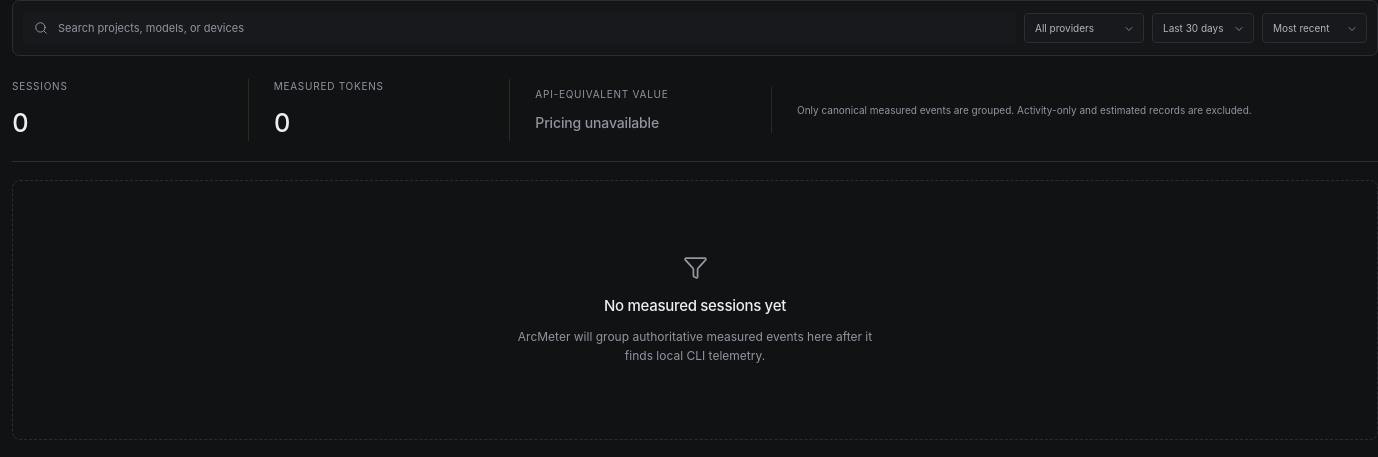
Test case: important product states › distinguishes a first-use session empty state from filtered empty results
Check: the heading "No measured sessions yet" is shown, box [604,295,786,317]
Type "ArcMeter" into the field labelled "Search projects" at (530, 28), box [56,12,1005,44]
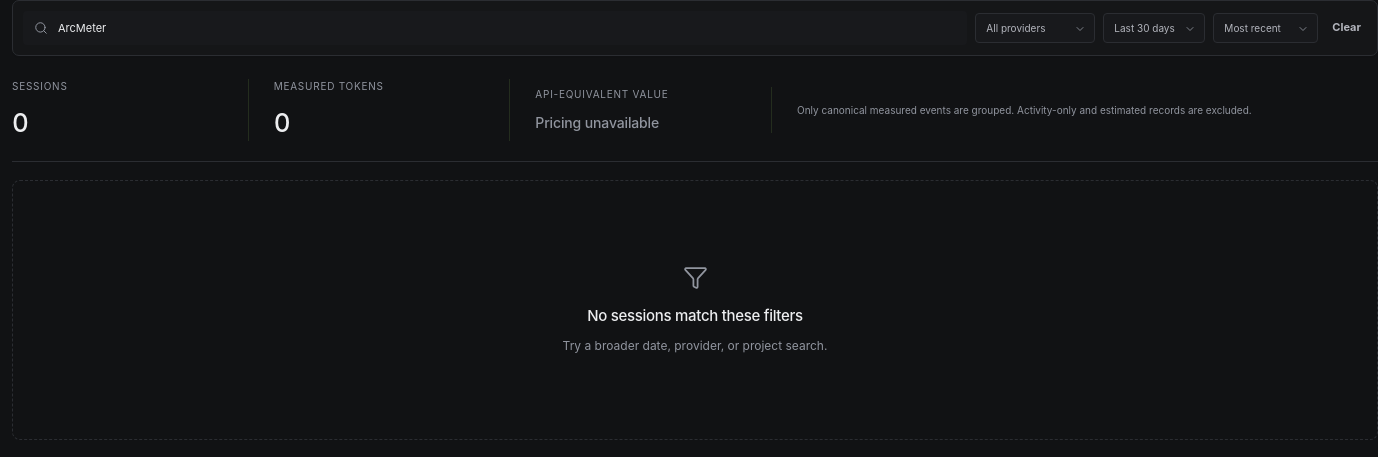
Check: the heading "No sessions match these filters" is shown, box [587,305,803,326]
